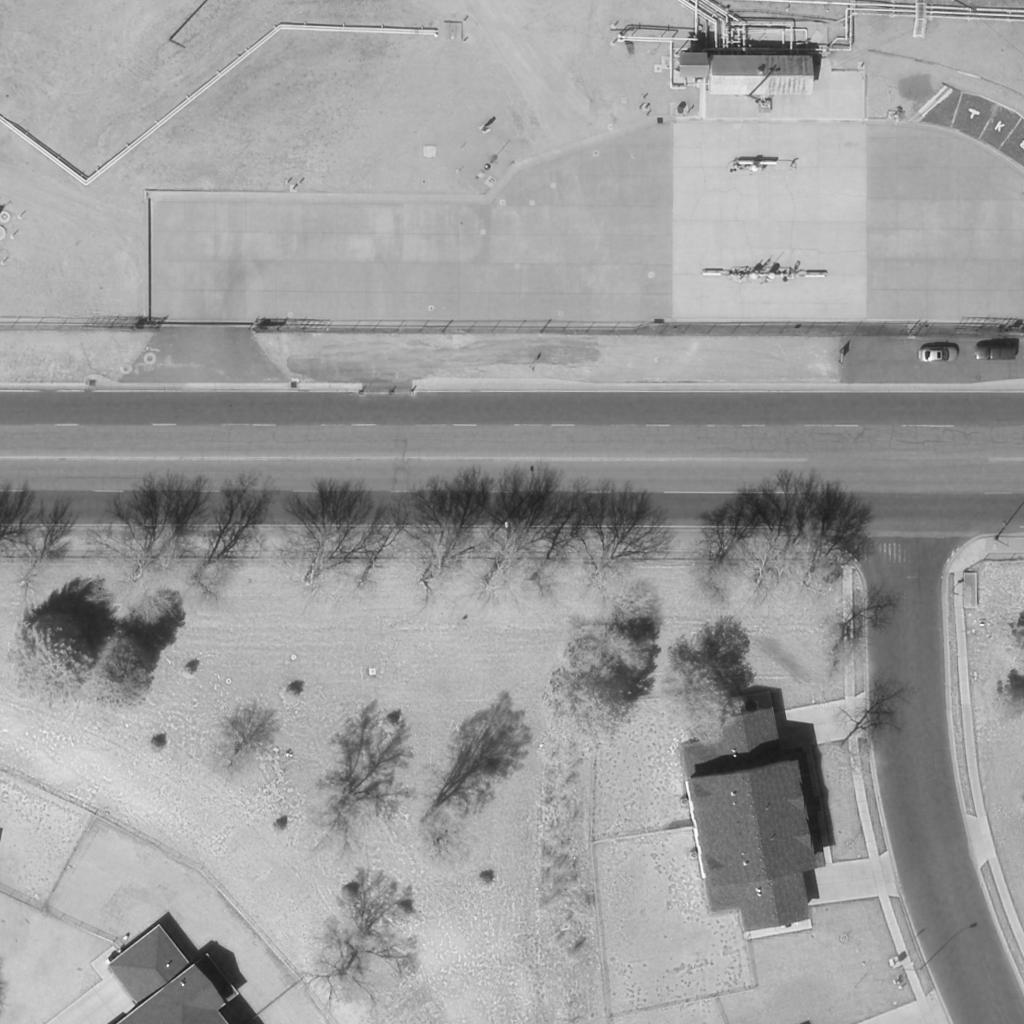vehicle: (975, 345, 1017, 359), (919, 348, 957, 362)
